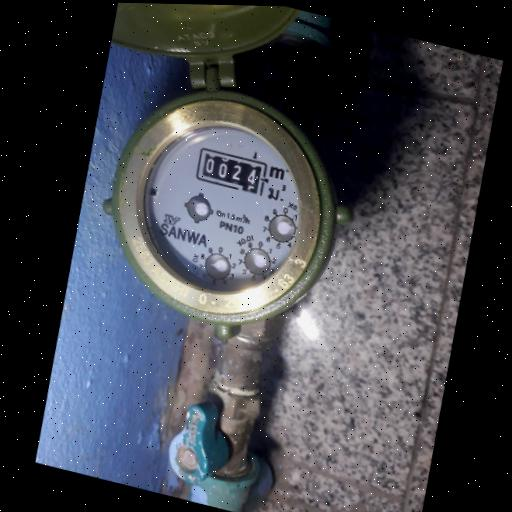0: (213, 156, 233, 183), (201, 153, 220, 179)
2: (225, 159, 248, 186)
4: (240, 164, 262, 195)
border_water_meter_number: (193, 147, 270, 198)
